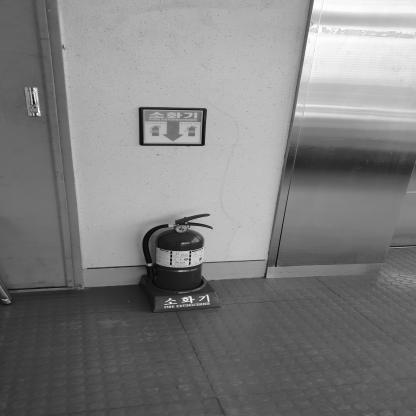FE: (146, 214, 218, 312)
